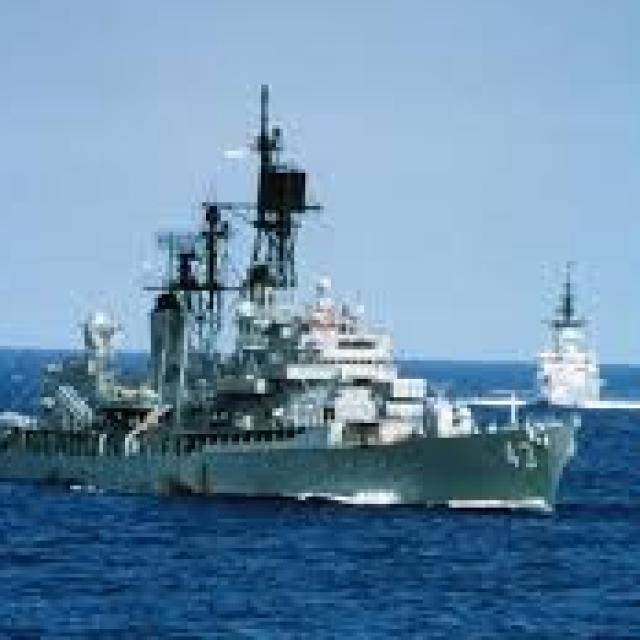navalvessels: (0, 77, 574, 504), (522, 242, 619, 409)
